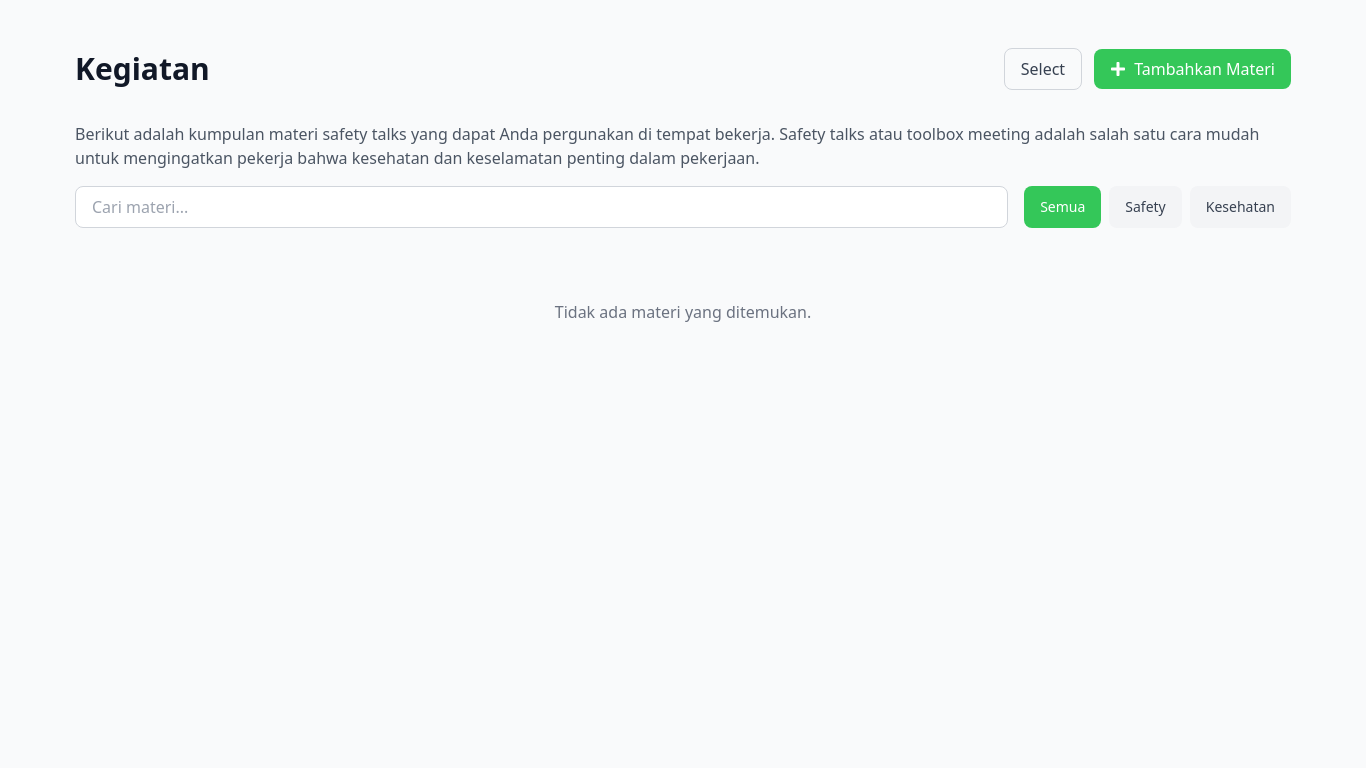
Scenario: Kegiatan Component › should close add material modal
This screenshot has width=1366, height=768.
Click the button "Tambahkan Materi" at (1193, 69), box 1094,49 -> 1291,89
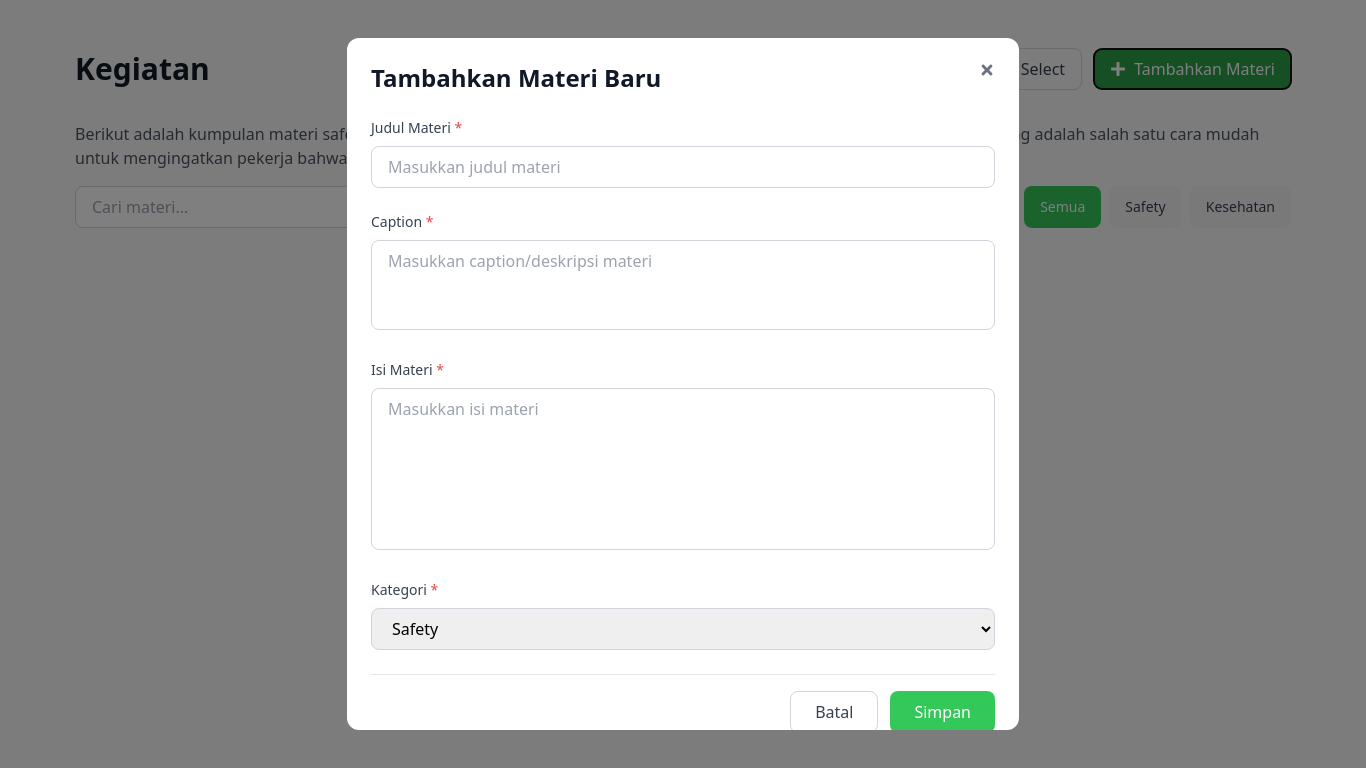
Now the heading "Tambahkan Materi Baru" is shown, box 371,62 -> 661,94
Note: Find cancel button (more reliable than close icon)
Click the button "Batal" at (834, 712), box 790,691 -> 878,733
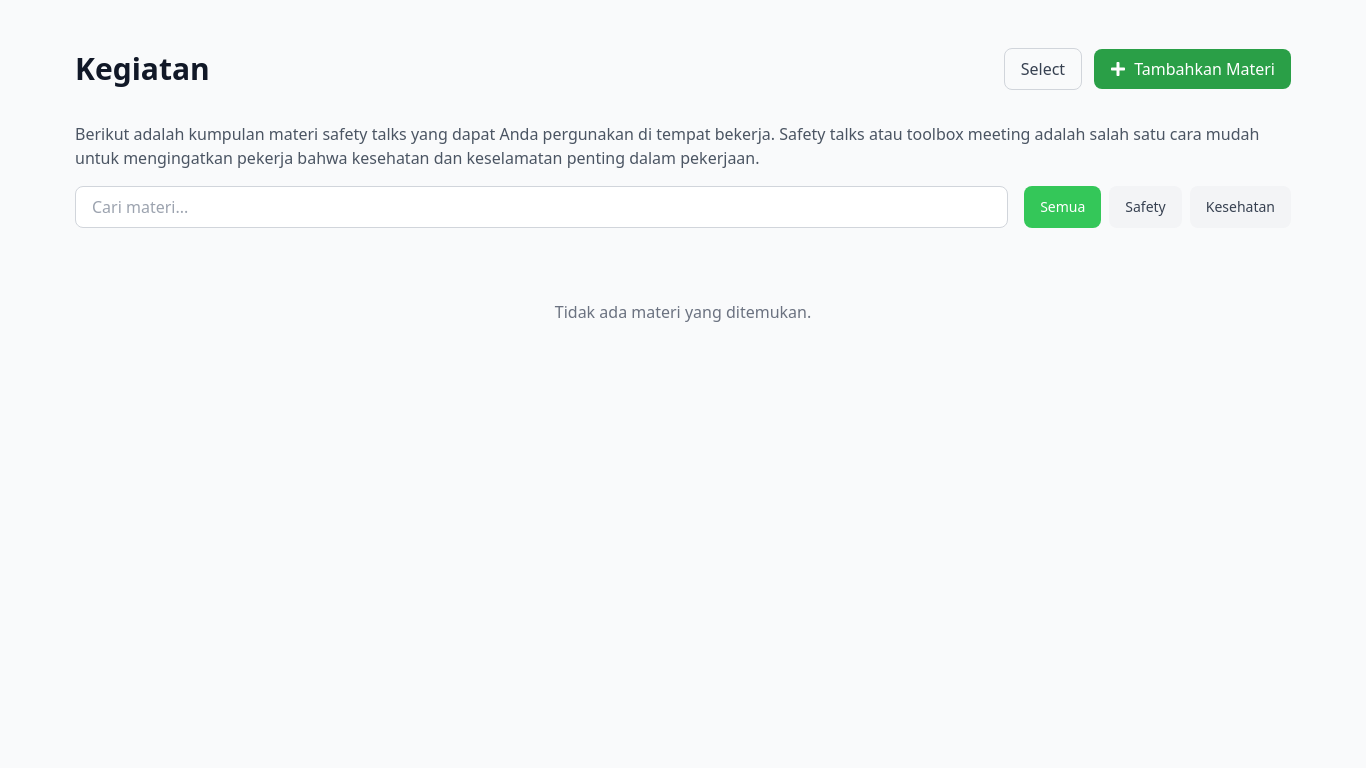
Now the heading "Tambahkan Materi Baru" is gone
